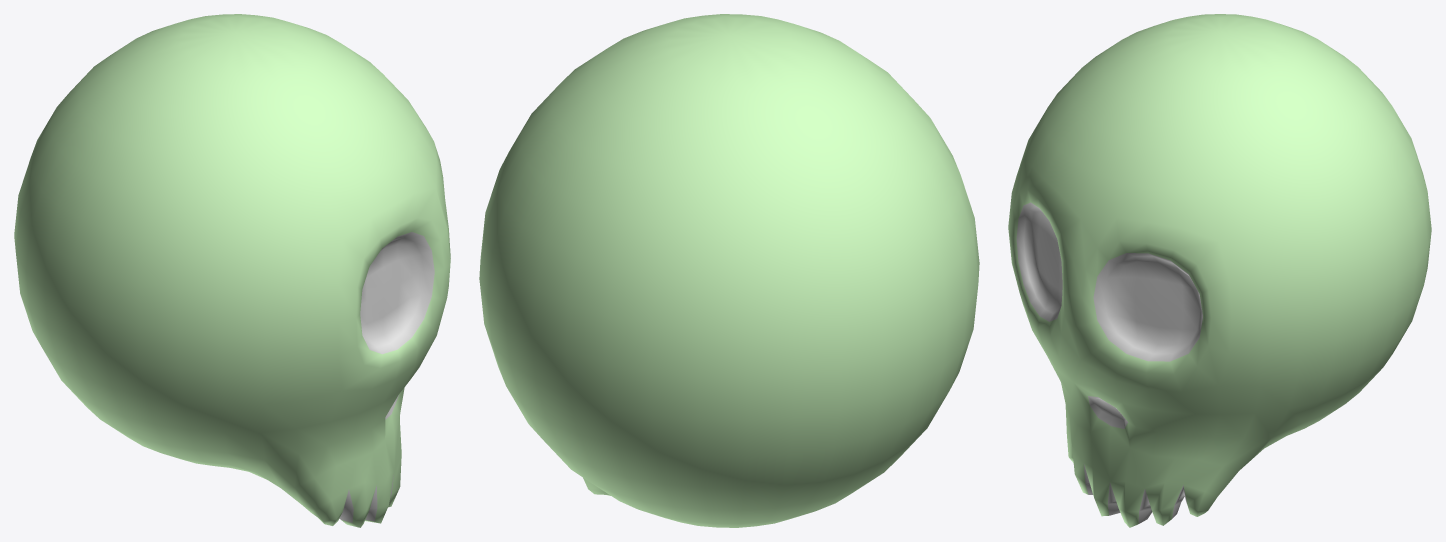
File: skull.fbx
The picture shows the model from 3 angles, left to right: view 1: azimuth 30°, elevation 25°; view 2: azimuth 150°, elevation 25°; view 3: azimuth 270°, elevation 25°; orthographic projection. The views are drawn at different scales.
Visible parts, largest first — view 1: Skull; view 2: Skull; view 3: Skull.
Part boxes in pixels (x1,y1,x2,y2): Skull: [14, 14, 450, 527]; Skull: [479, 14, 979, 527]; Skull: [1008, 14, 1431, 527].
Size of the model in its own units: 420 by 487 by 420.
